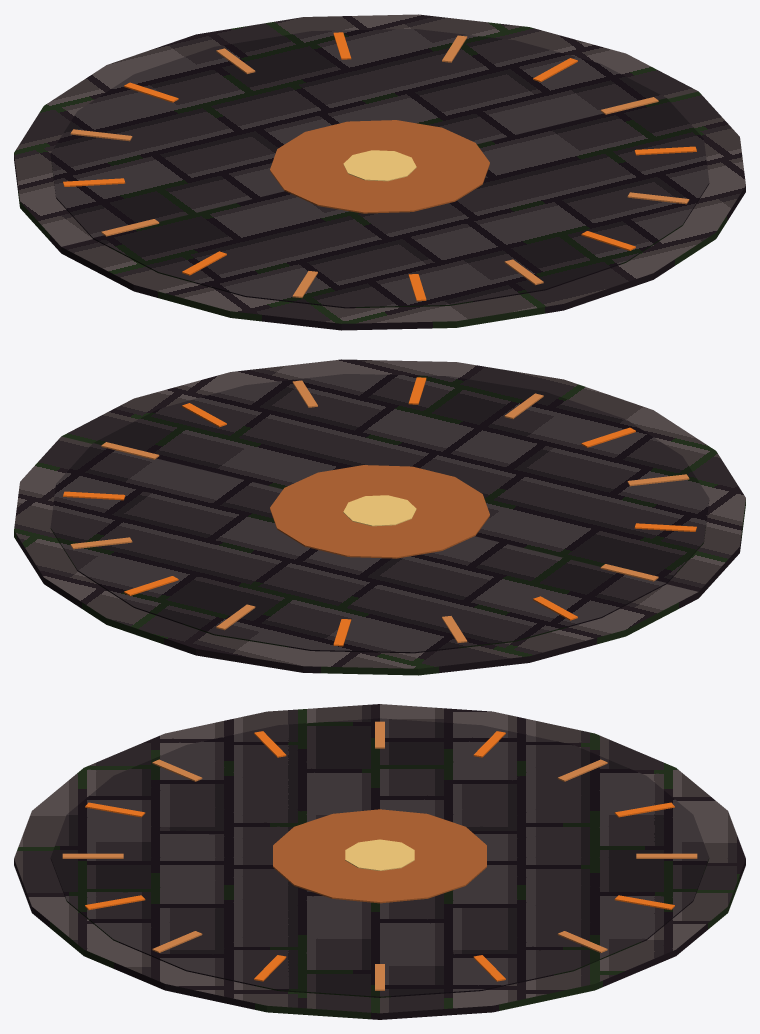
File: dance_ring.glb
3 views of the same model, one above another, from view 1: azimuth 30°, elevation 25°; view 2: azimuth 150°, elevation 25°; view 3: azimuth 270°, elevation 25° (orthographic).
Parts seen in each view (by area): view 1: dance_ring; view 2: dance_ring; view 3: dance_ring.
Boxes of the visible parts, x1,y1,x2,y2 form: dance_ring: (14,14,745,330); dance_ring: (14,359,745,675); dance_ring: (14,704,745,1019).
Bounding box in the file's own units: 6 × 0.094 × 6.
Materials: 3 (1 with a texture image).
